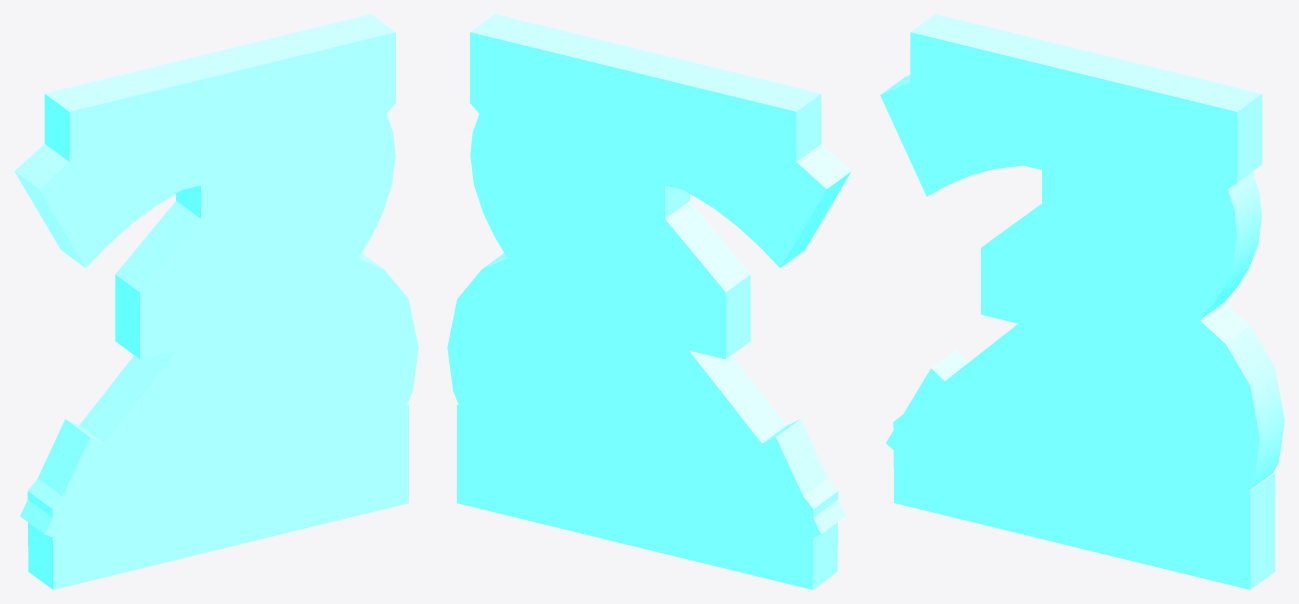
File: countdown.gltf
The picture shows the model from 3 angles, left to right: view 1: azimuth 30°, elevation 25°; view 2: azimuth 150°, elevation 25°; view 3: azimuth 330°, elevation 25°; orthographic projection.
Visible parts, largest first — view 1: c3, c1, c2; view 2: c3, c2, c1; view 3: c3, c2, c1.
Part boxes in pixels (x1=…): c3: x1=20, y1=14, x2=418, y2=555; c1: x1=111, y1=55, x2=322, y2=553; c2: x1=14, y1=65, x2=408, y2=589; c3: x1=447, y1=14, x2=845, y2=555; c2: x1=457, y1=65, x2=851, y2=589; c1: x1=543, y1=55, x2=754, y2=553; c3: x1=886, y1=14, x2=1284, y2=554; c2: x1=880, y1=64, x2=1275, y2=589; c1: x1=952, y1=48, x2=1163, y2=557.
Bounding box in the file's own units: 4.4 × 5.26 × 0.5.
